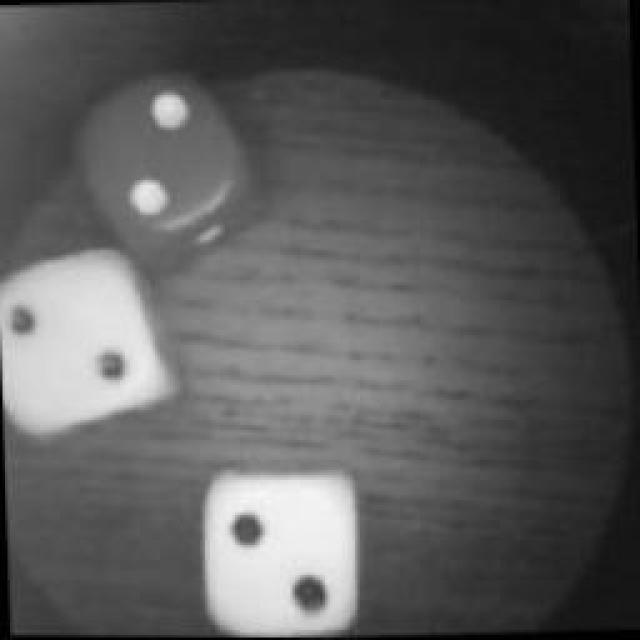dice_2: (66, 54, 266, 261), (0, 240, 190, 440), (191, 452, 371, 638)
